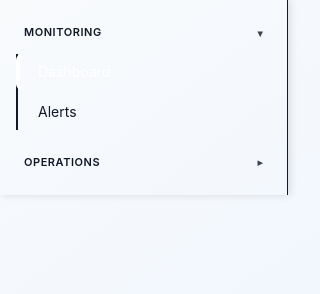
Test case: SideNav Component › Rendering › should render navigation items
Expected: the link "Dashboard" is shown, [16, 54, 275, 90]
Expected: the link "Alerts" is shown, [38, 103, 76, 120]
Click the text "Operations". click: click(62, 162)
box: [24, 154, 100, 171]
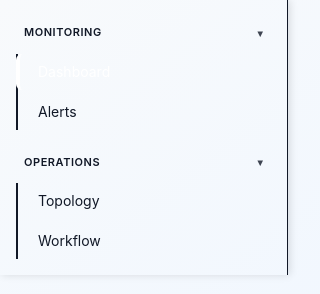
Result: the link "Topology" is shown at [38, 192, 100, 209]
Result: the link "Workflow" is shown at [38, 232, 101, 249]
